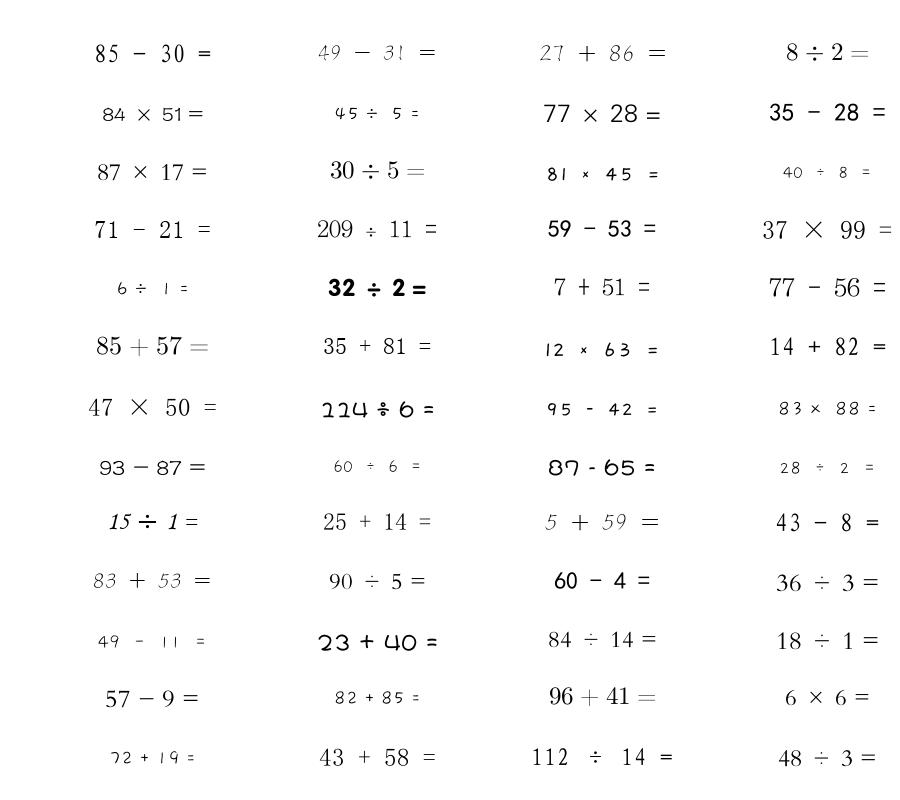MQ: (531, 748, 673, 766), (96, 336, 209, 357), (762, 221, 892, 239), (88, 398, 217, 416), (543, 104, 661, 123), (94, 44, 211, 63), (769, 278, 886, 297), (769, 337, 886, 356), (317, 220, 437, 238), (539, 45, 666, 62), (549, 687, 656, 707), (769, 103, 886, 121), (319, 748, 436, 766), (317, 634, 438, 651), (94, 221, 211, 238), (775, 513, 879, 532), (320, 401, 435, 418), (545, 514, 659, 531), (318, 45, 436, 61), (97, 164, 208, 181), (328, 278, 426, 297), (776, 574, 879, 592), (776, 632, 879, 650), (548, 631, 657, 648), (548, 220, 656, 237), (548, 459, 656, 476), (323, 513, 431, 530), (93, 573, 211, 588), (544, 342, 660, 357), (554, 278, 650, 296), (323, 338, 431, 354), (554, 572, 650, 590), (330, 161, 425, 179), (105, 690, 199, 708), (778, 750, 877, 767), (329, 573, 426, 590), (545, 167, 660, 181), (99, 460, 206, 475), (107, 513, 198, 530), (98, 635, 207, 649), (102, 107, 203, 122), (786, 43, 869, 61), (778, 401, 877, 416), (545, 403, 659, 416), (785, 689, 870, 706), (779, 461, 876, 475), (334, 691, 421, 705), (109, 751, 196, 765), (334, 107, 420, 121), (783, 166, 872, 179), (333, 460, 422, 473), (116, 282, 189, 296)
